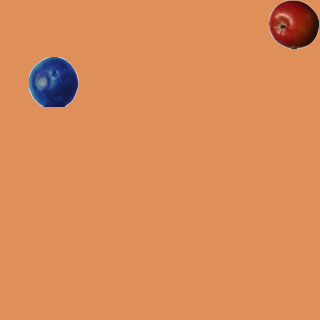Apple Braeburn: (268, 0, 318, 49)
Huckleberry: (28, 56, 78, 106)
